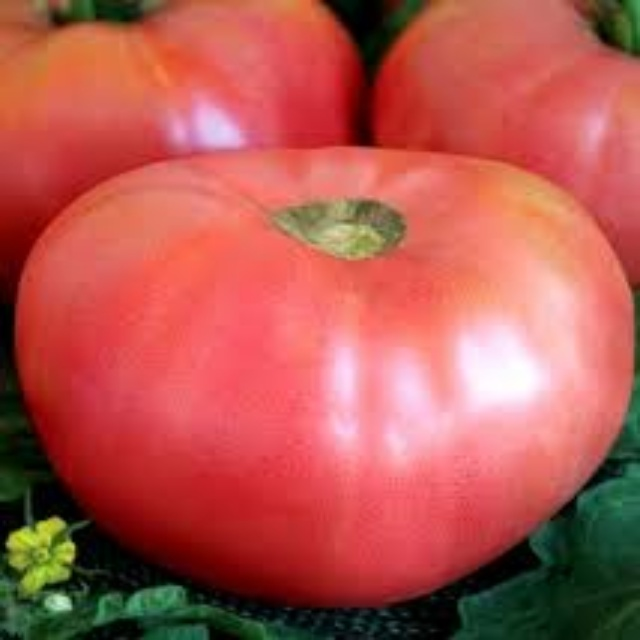tomato: (16, 146, 630, 609), (9, 5, 357, 235), (383, 9, 639, 275)
